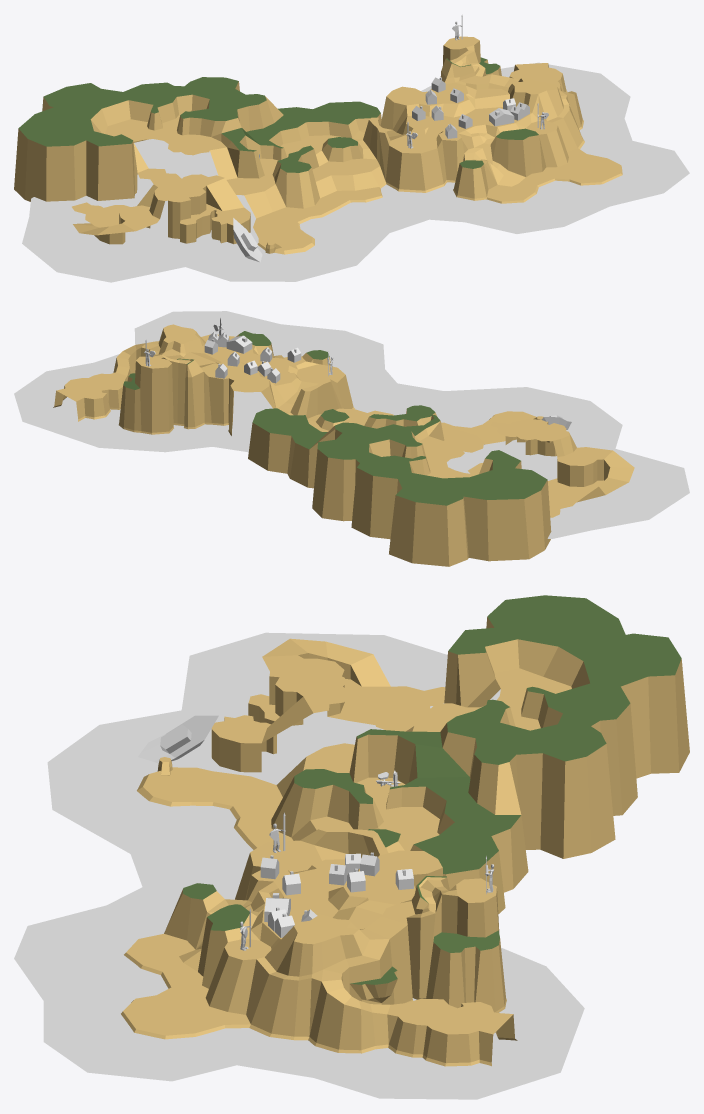
File: mapa elnotas test(1).fbx
3 views of the same model, one above another, from view 1: azimuth 30°, elevation 25°; view 2: azimuth 150°, elevation 25°; view 3: azimuth 270°, elevation 25° (orthographic). The views are drawn at different scales.
Parts seen in each view (by area): view 1: suelo, Plane, Casas, Barco, Altar; view 2: suelo, Plane, Casas; view 3: suelo, Plane, Casas, Barco, Altar.
Part boxes in pixels (left/top/right/bottom): suelo: left=14, top=36, right=622, bottom=254; Plane: left=22, top=62, right=689, bottom=282; Casas: left=412, top=77, right=529, bottom=138; Barco: left=233, top=218, right=262, bottom=262; Altar: left=259, top=14, right=548, bottom=158; suelo: left=53, top=324, right=634, bottom=566; Plane: left=14, top=311, right=689, bottom=538; Casas: left=204, top=332, right=301, bottom=383; suelo: left=121, top=595, right=689, bottom=1066; Plane: left=14, top=632, right=584, bottom=1099; Casas: left=260, top=852, right=413, bottom=937; Barco: left=138, top=715, right=218, bottom=763; Altar: left=240, top=770, right=494, bottom=950.
Size of the model in its own units: 41.77 by 6.3 by 25.56.
